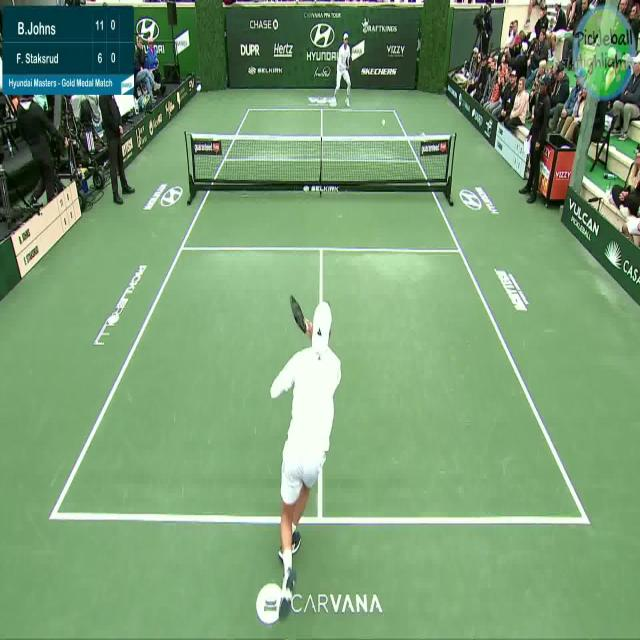Court: (52, 110, 588, 527)
ball: (381, 117, 388, 130)
